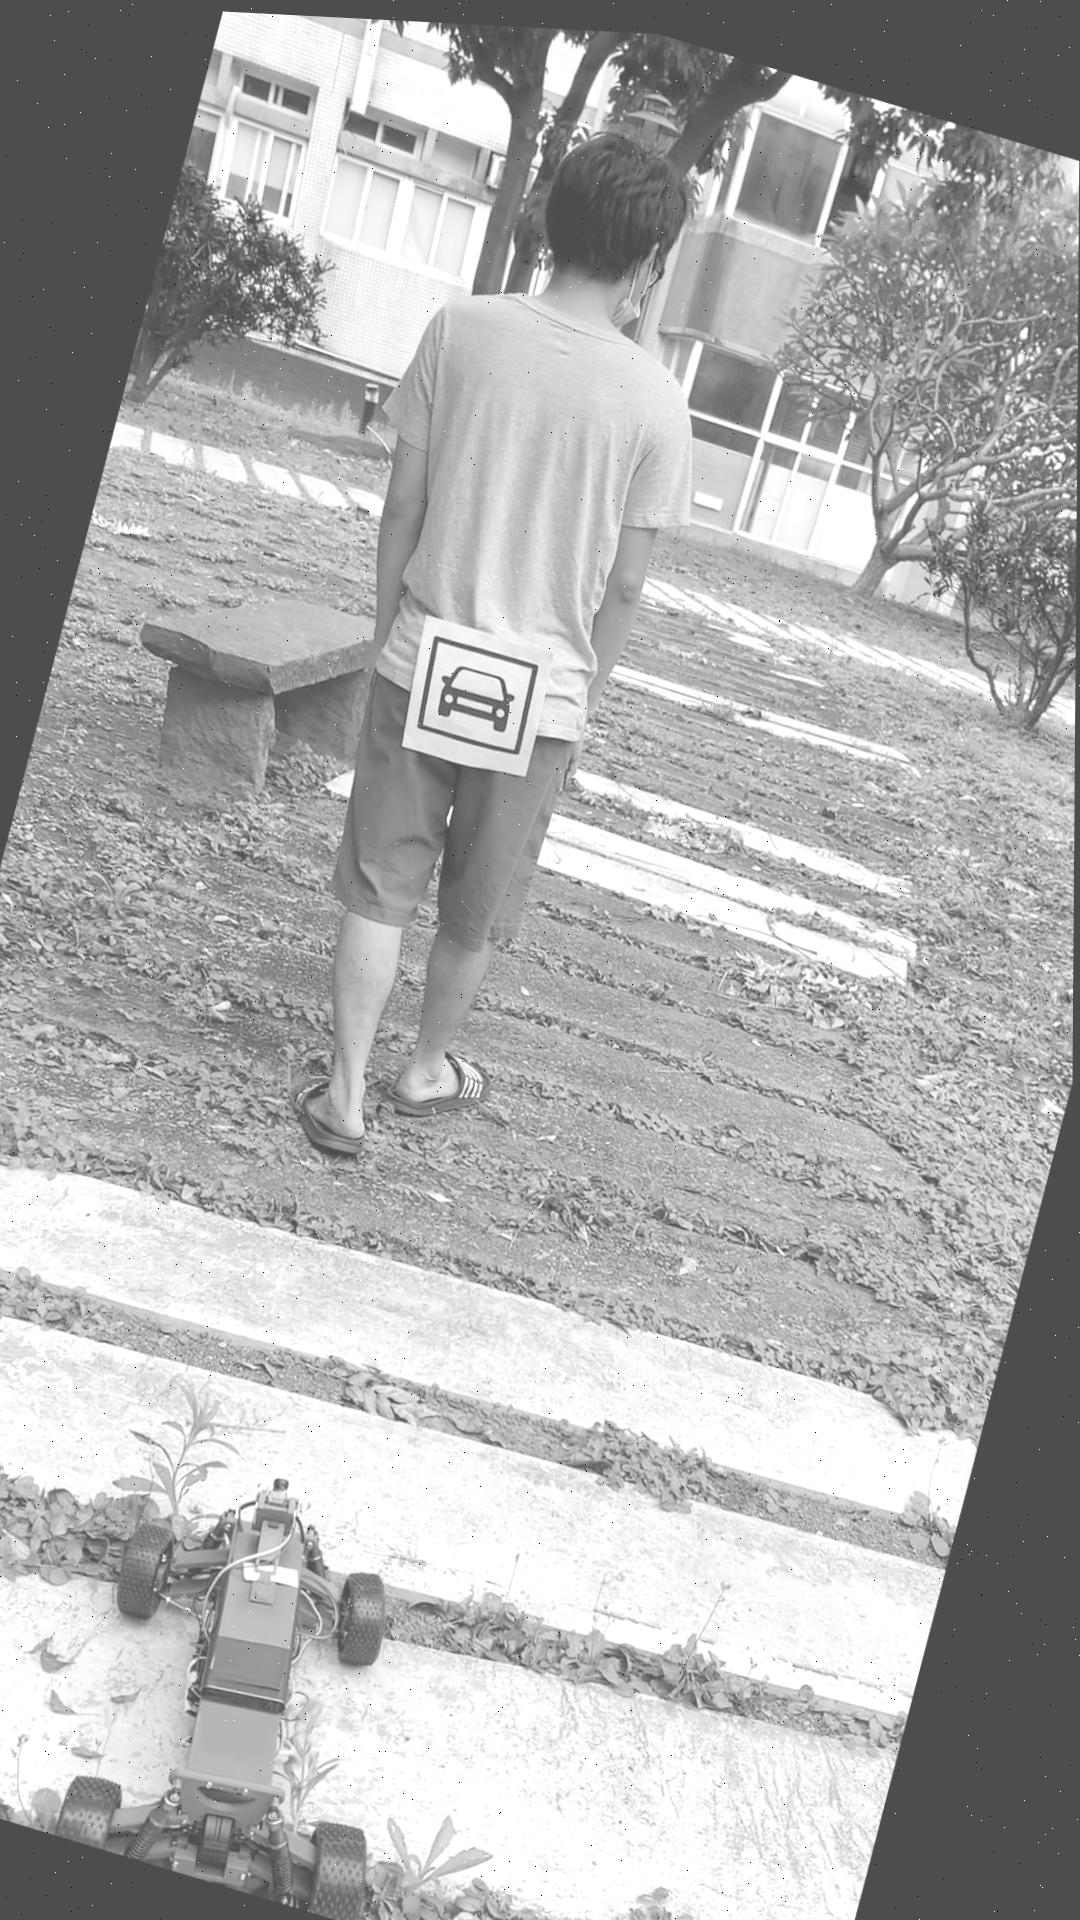car_img: (410, 626, 543, 754)
